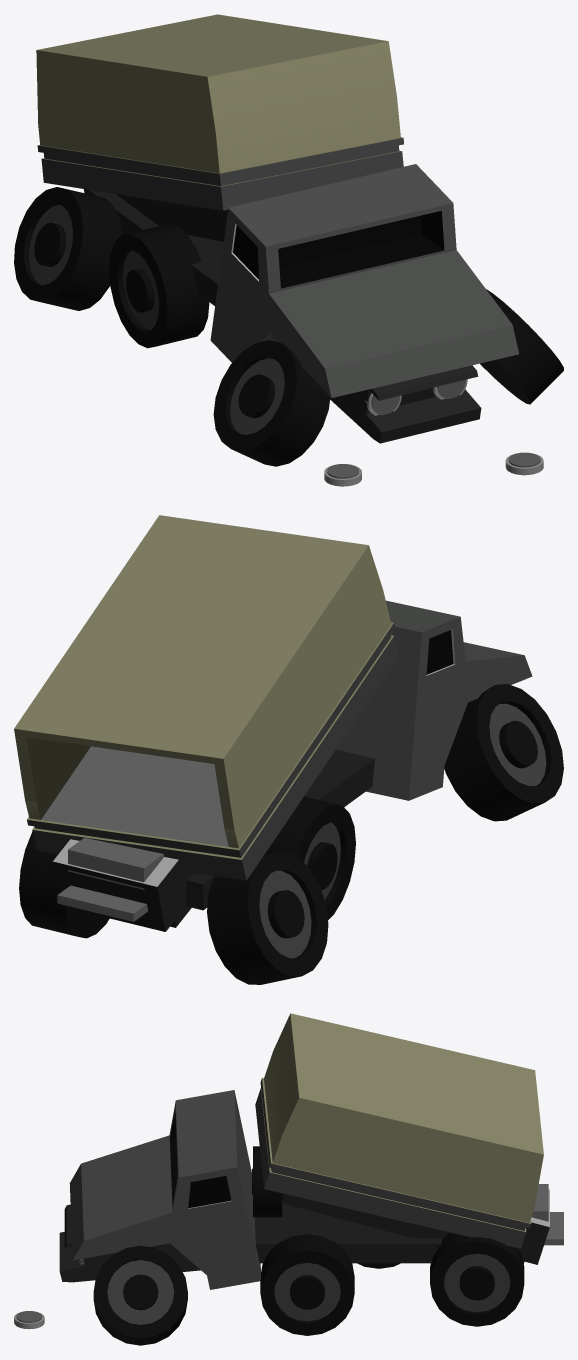
Rendered from armyTruckDamaged.fbx.
The picture shows the model from 3 angles, top to bottom: view 1: azimuth 30°, elevation 25°; view 2: azimuth 150°, elevation 25°; view 3: azimuth 270°, elevation 25°; orthographic projection. The views are drawn at different scales.
Parts seen in each view (by area): view 1: pCylinder23; view 2: pCylinder23; view 3: pCylinder23.
Part boxes in pixels (box(x1,y1,x2,y2)): pCylinder23: box(14, 14, 563, 486); pCylinder23: box(14, 515, 563, 984); pCylinder23: box(14, 1013, 563, 1345).
Size of the model in its own units: 14.27 by 12.95 by 25.96.
